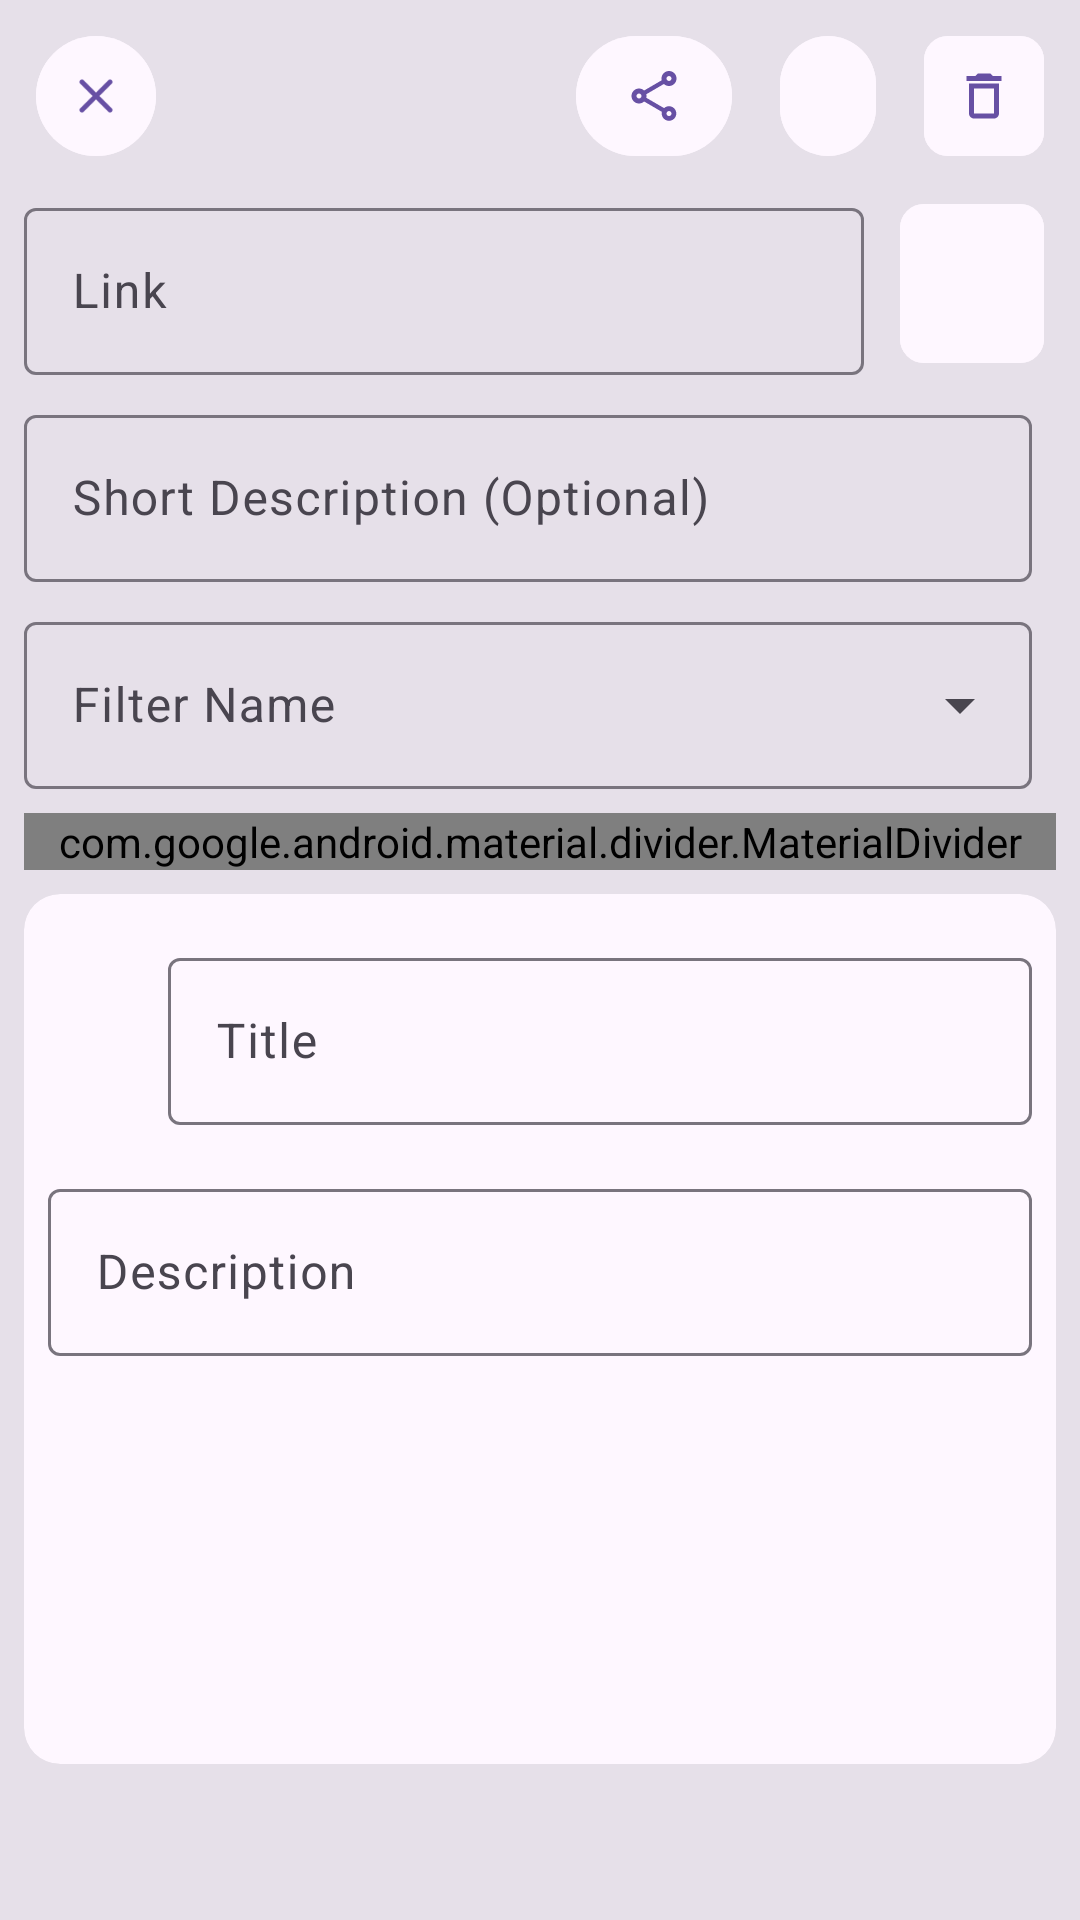

Icon bounding boxes for this 1080w x 1920h phone screenshot, format [x1=x1, y1=y1, x2=x2, y2=y2]:
close: [x1=36, y1=36, x2=156, y2=156]
delete: [x1=924, y1=36, x2=1044, y2=156]
share: [x1=576, y1=36, x2=732, y2=156]
